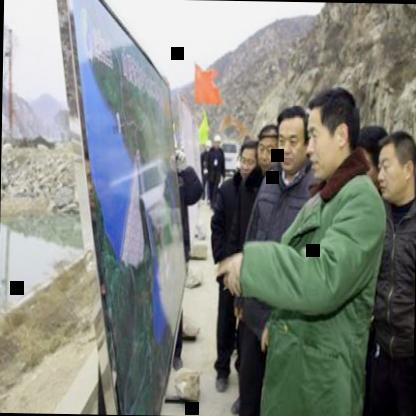head: (303, 79, 358, 180), (370, 122, 416, 205), (274, 100, 310, 174), (356, 124, 388, 186), (253, 118, 283, 173), (235, 135, 260, 181)
